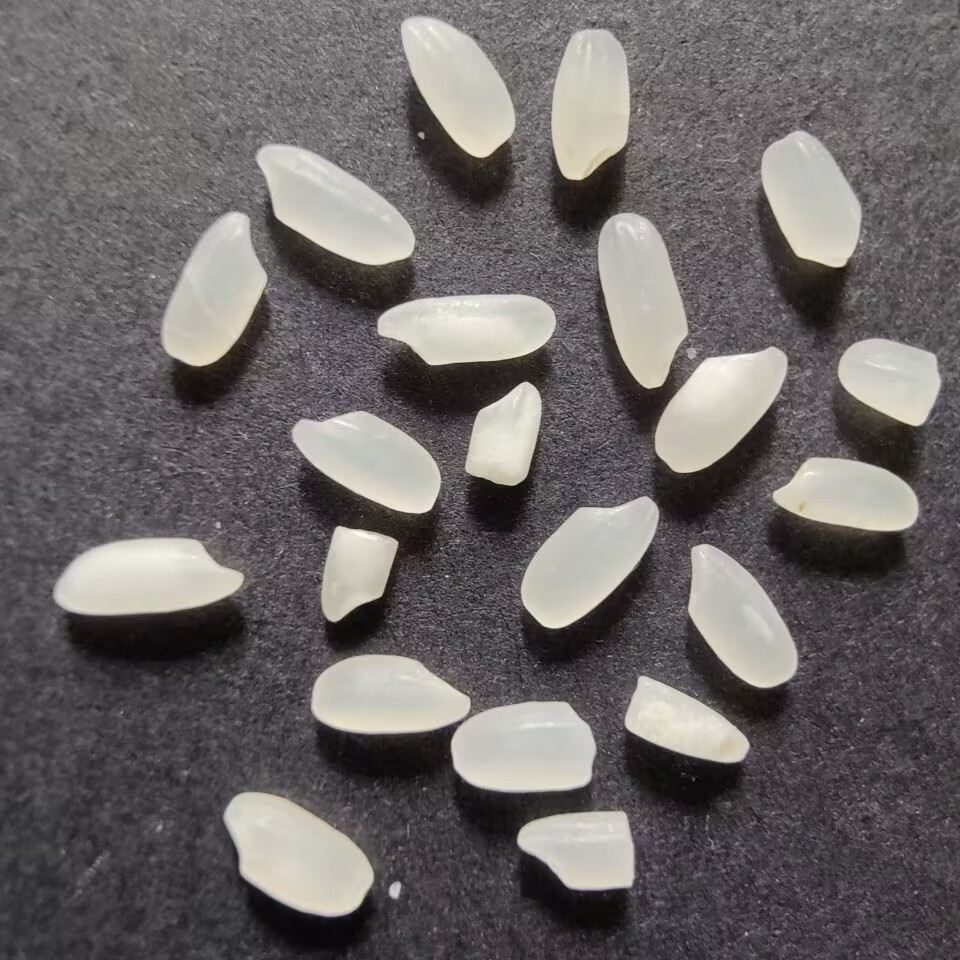broken: (448, 697, 600, 797), (621, 671, 752, 770), (512, 805, 638, 892), (462, 377, 548, 491), (836, 338, 941, 431), (317, 522, 400, 626)
rice: (246, 141, 423, 272), (216, 787, 382, 922), (517, 493, 663, 634), (647, 340, 792, 477), (394, 13, 523, 161), (682, 536, 802, 694), (285, 406, 452, 518), (155, 207, 270, 369), (45, 533, 251, 623), (595, 209, 692, 393), (753, 127, 866, 275), (300, 650, 475, 735), (372, 292, 565, 369), (548, 25, 638, 188), (765, 452, 925, 535)
